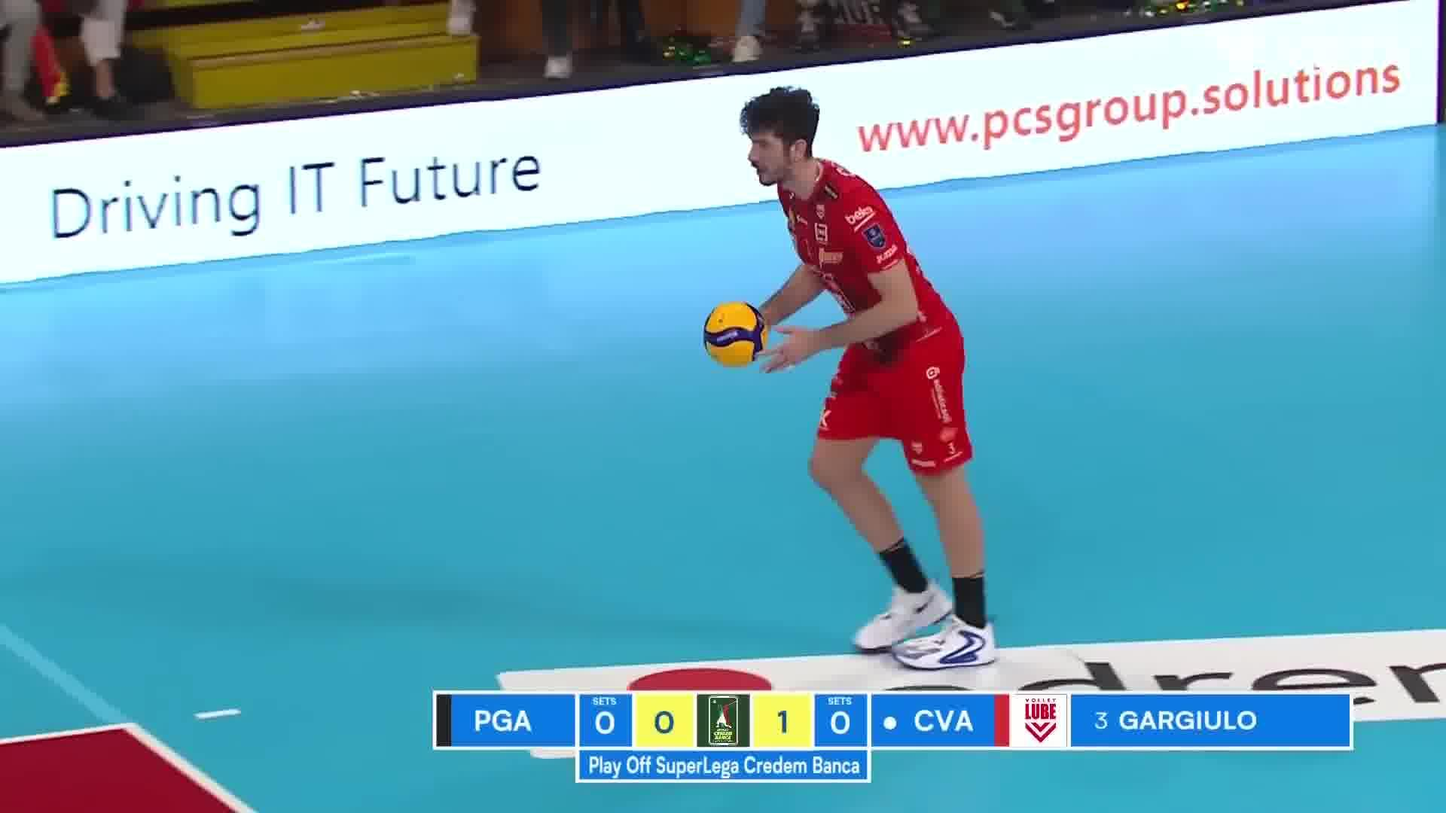balls: (696, 294, 773, 371)
